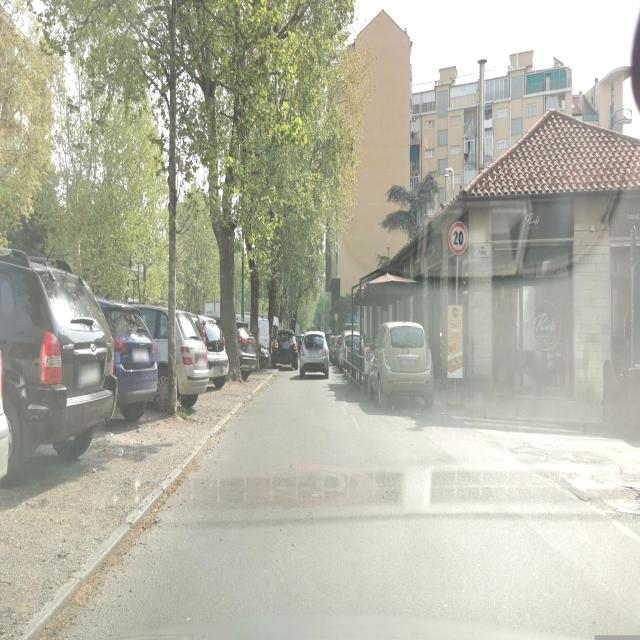car: (0, 248, 117, 484), (125, 302, 209, 407), (94, 296, 159, 418), (368, 320, 434, 408), (190, 312, 230, 388), (212, 317, 257, 378), (234, 324, 270, 368), (299, 331, 329, 376), (271, 329, 299, 369), (338, 331, 363, 372), (328, 334, 339, 364), (295, 334, 304, 352)
